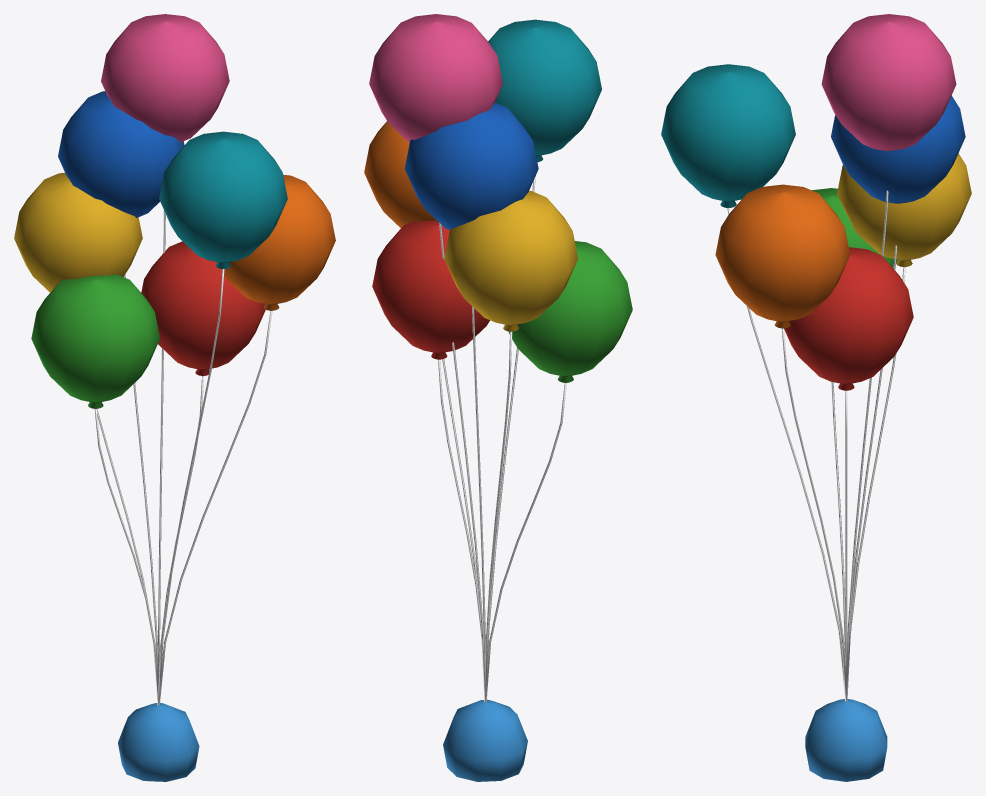
Rendered from balloon_cluster.glb.
3 renders of one model, left to right at view 1: azimuth 30°, elevation 25°; view 2: azimuth 150°, elevation 25°; view 3: azimuth 270°, elevation 25°, orthographic. The views are drawn at different scales.
Parts seen in each view (by area): view 1: balloon_cluster_mesh; view 2: balloon_cluster_mesh; view 3: balloon_cluster_mesh.
Boxes of the visible parts, box(x1,y1,x2,y2) form: balloon_cluster_mesh: box(14, 14, 335, 781); balloon_cluster_mesh: box(364, 14, 632, 781); balloon_cluster_mesh: box(661, 14, 971, 781).
Bounding box in the file's own units: 1.49 × 3.89 × 1.45.
